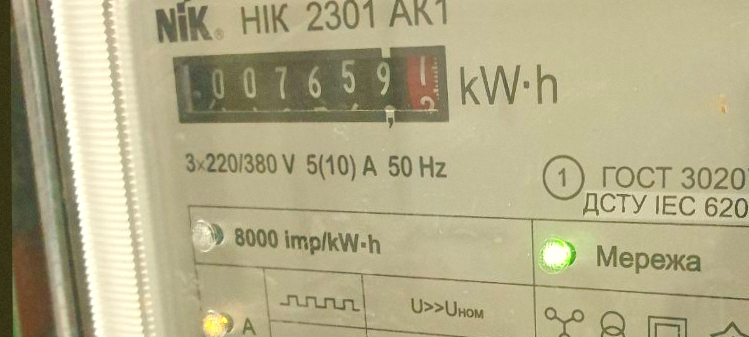0: (239, 62, 259, 102), (208, 64, 228, 102)
1: (411, 52, 431, 89)
5: (337, 56, 359, 96)
6: (303, 60, 325, 102)
7: (270, 62, 292, 101)
9: (373, 58, 394, 98)
screen: (162, 39, 455, 134)
